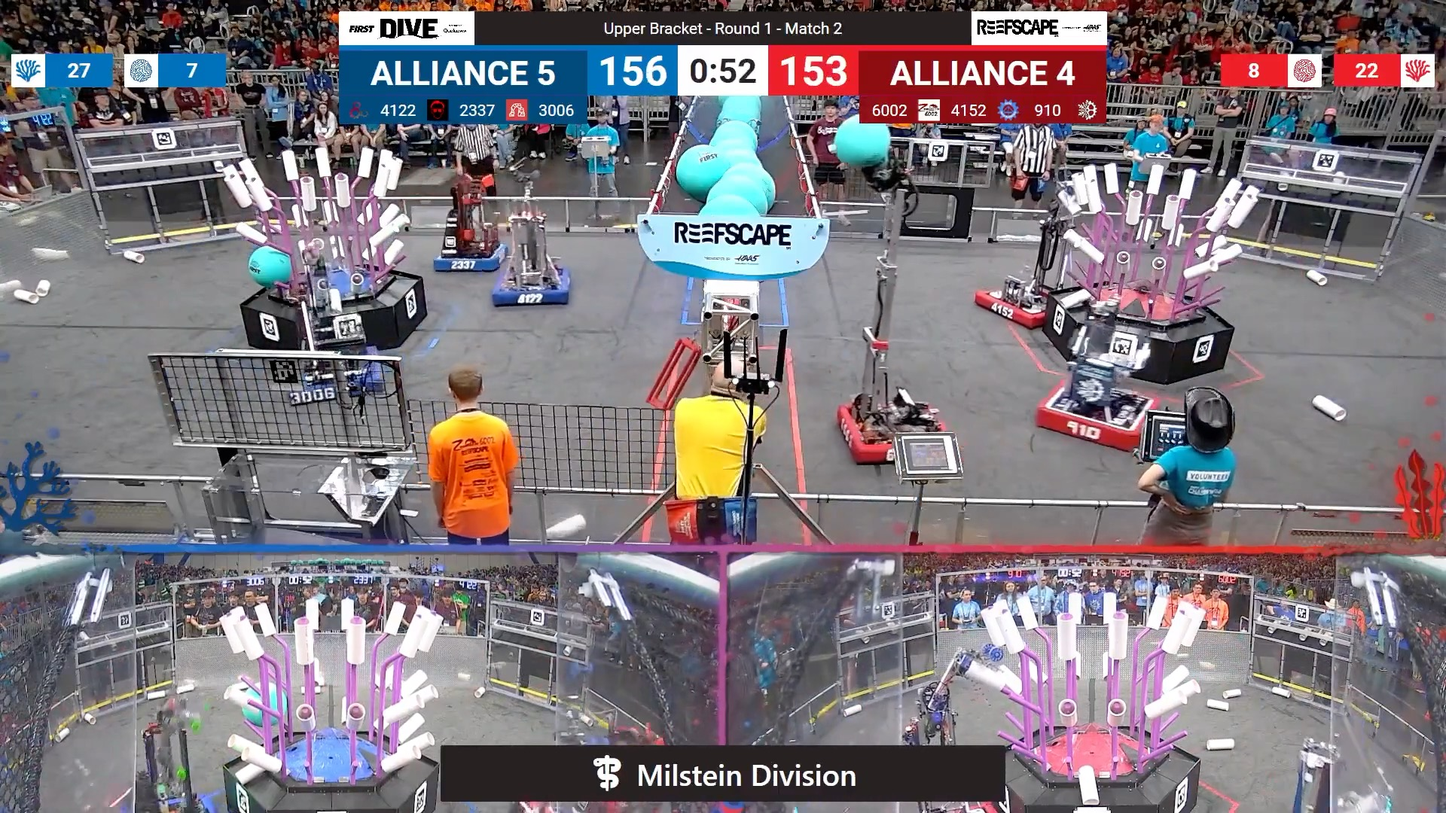bumpers: (1030, 379, 1163, 455), (831, 394, 957, 468), (264, 346, 389, 409), (969, 279, 1062, 332), (487, 265, 578, 311), (435, 234, 510, 273)
